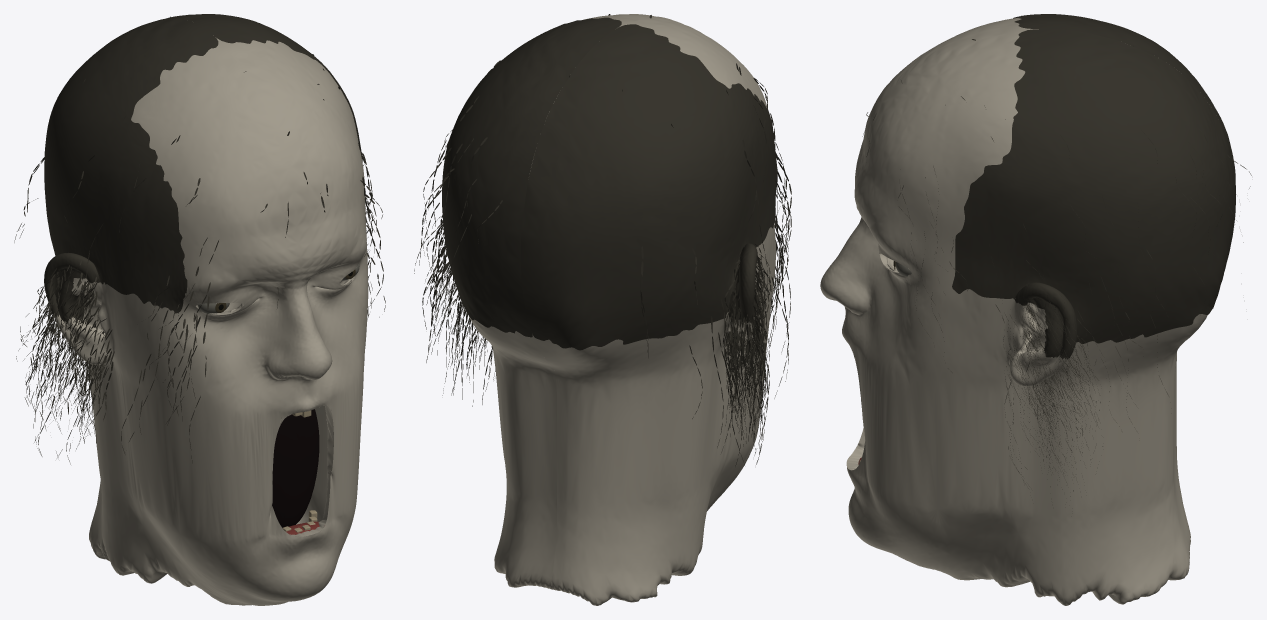
The model's file is passage-head.glb.
3 renders of one model, left to right at view 1: azimuth 30°, elevation 25°; view 2: azimuth 150°, elevation 25°; view 3: azimuth 270°, elevation 25°, orthographic. The views are drawn at different scales.
Parts seen in each view (by area): view 1: Scannedagedvisitorskin, Dirtygreyhairfibres, Deeporalcavity; view 2: Dirtygreyhairfibres, Scannedagedvisitorskin; view 3: Scannedagedvisitorskin, Dirtygreyhairfibres.
Part boxes in pixels (x1,y1,x2,y2): Scannedagedvisitorskin: (55, 35, 368, 605); Dirtygreyhairfibres: (14, 14, 385, 464); Deeporalcavity: (272, 409, 319, 527); Dirtygreyhairfibres: (414, 14, 791, 466); Scannedagedvisitorskin: (467, 14, 775, 605); Scannedagedvisitorskin: (820, 18, 1207, 605); Dirtygreyhairfibres: (861, 14, 1251, 496).
Size of the model in its own units: 0.4915 by 0.7218 by 0.519.
